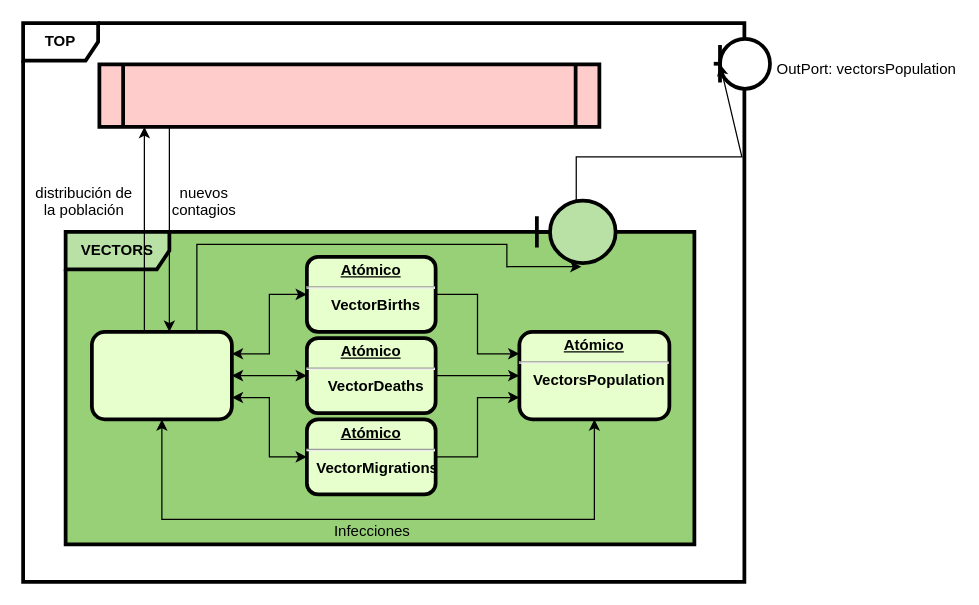
Some shapes in this 979 by 605 pixel diagram are drawn without their labels. The centre of each missing label's shape, as x and y in pixels:
"Atómico VectorsManager" belongs at point (161, 375).
"Atómico: DISEASE_TRANSMISSION" belongs at point (349, 95).
"outport" belongs at point (575, 231).
